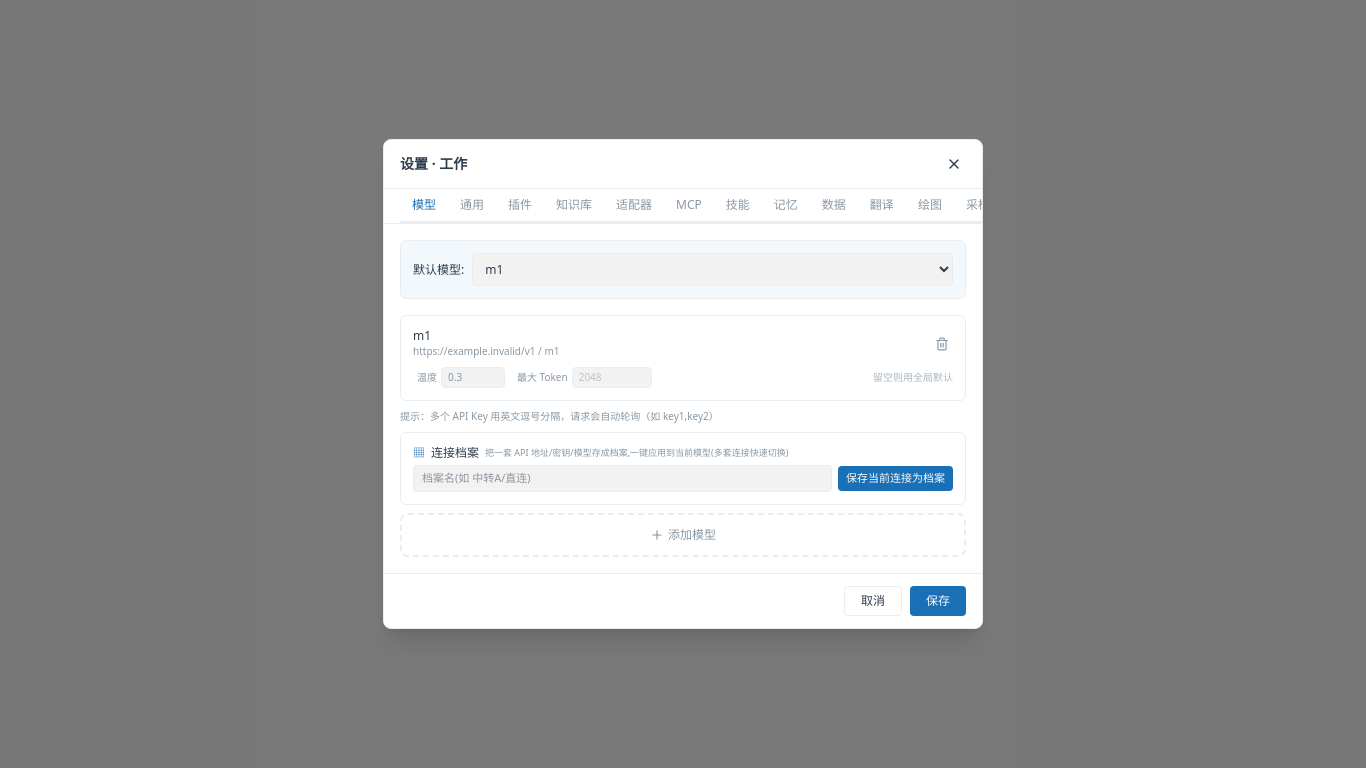
Test: T-097 保存失败有提示且不关闭弹窗 › 思考开关的浮动 promise 也被 catch（无 unhandled rejection）
# 思考开关在「通用」tab（默认落在模型 tab）
What coordinates should you click on to do the following:
click the button "通用"
I would click on:
 (472, 206)
Its box is [448,189,496,223].
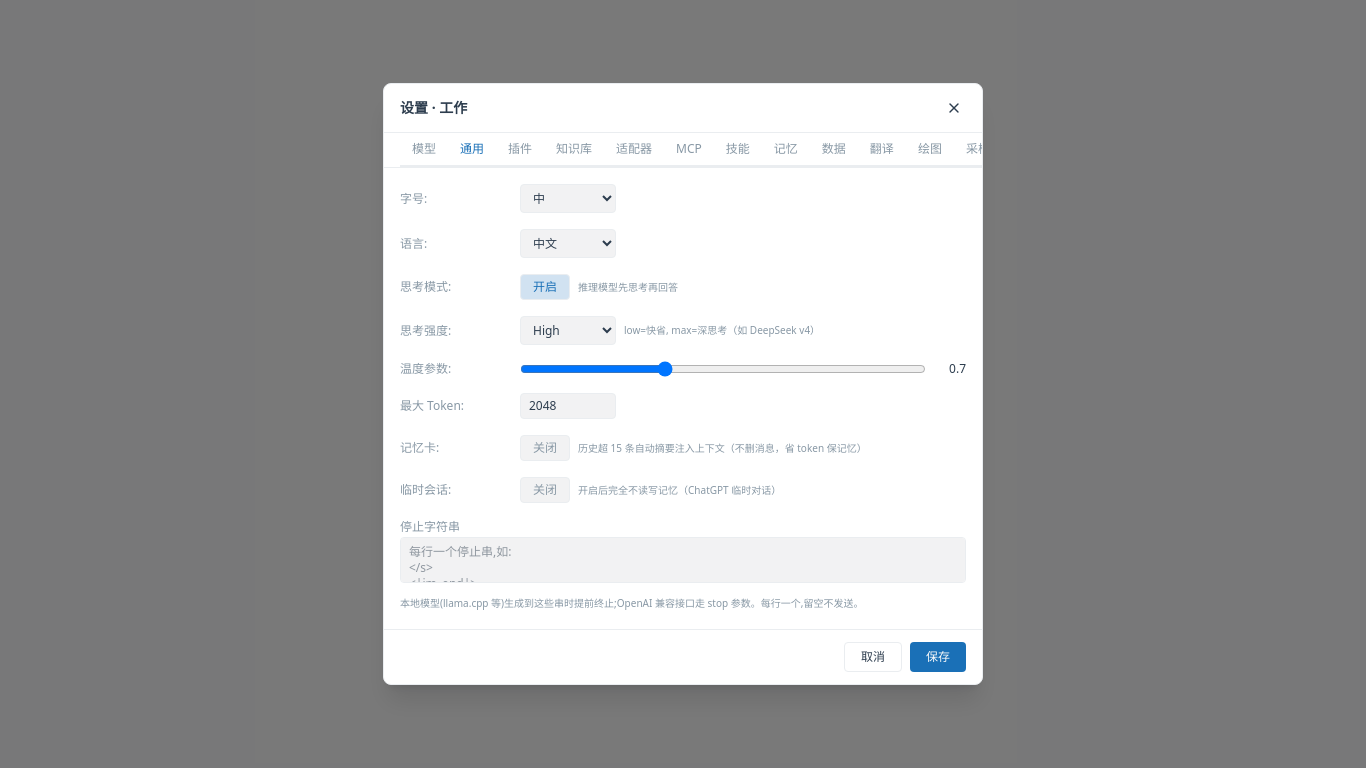
What coordinates should you click on to do the following:
click the button "开启"
I would click on:
 (545, 287)
Its box is [520,274,570,300].
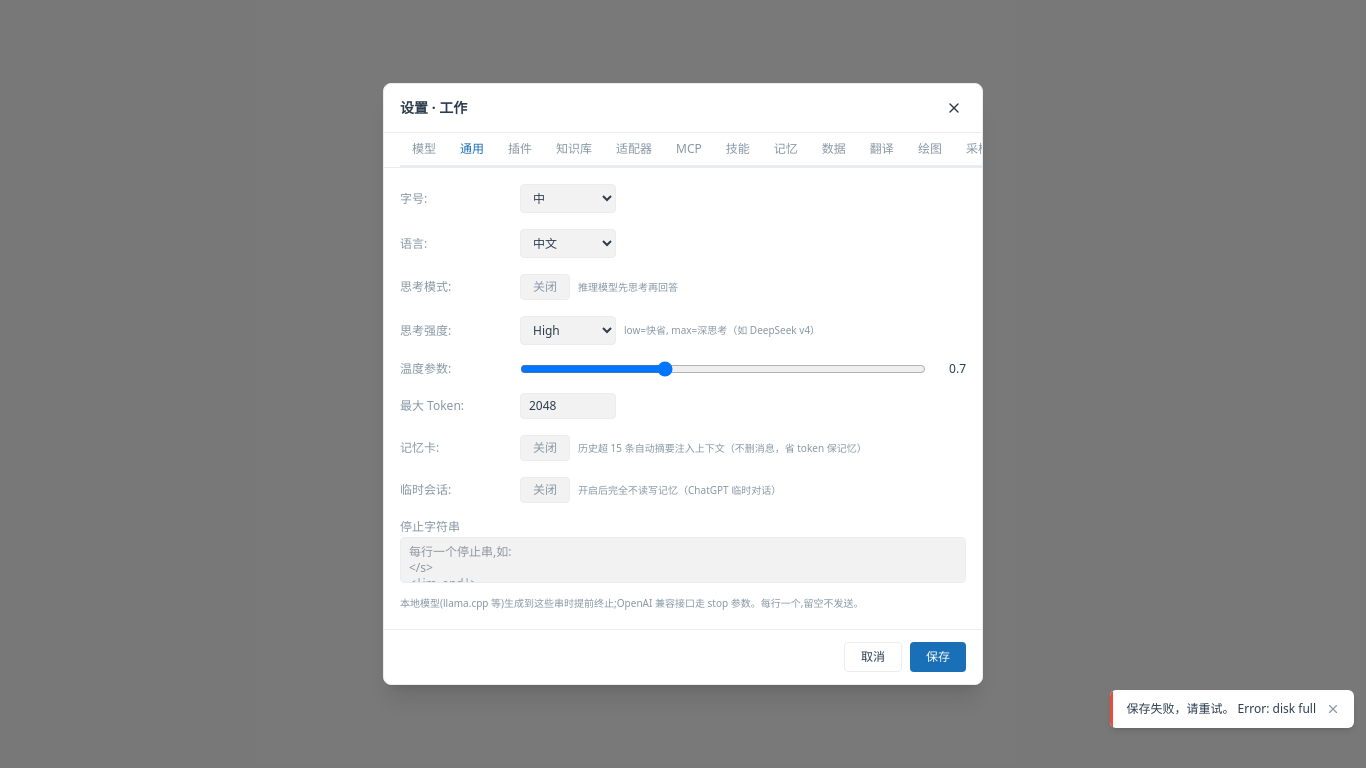
Expected: the text "保存失败，请重试。 Error: disk full" is shown, [1126,701,1316,717]
